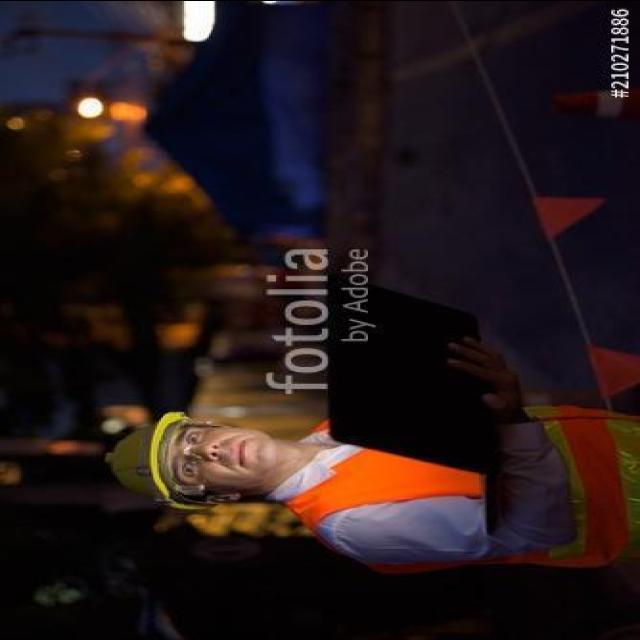helmet: (98, 405, 198, 524)
jacket: (290, 382, 640, 597)
